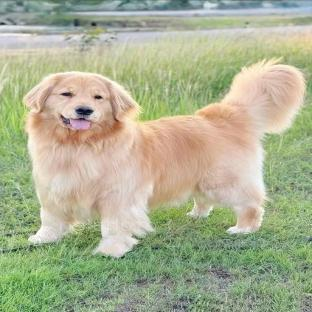Animal: (24, 59, 306, 257)
